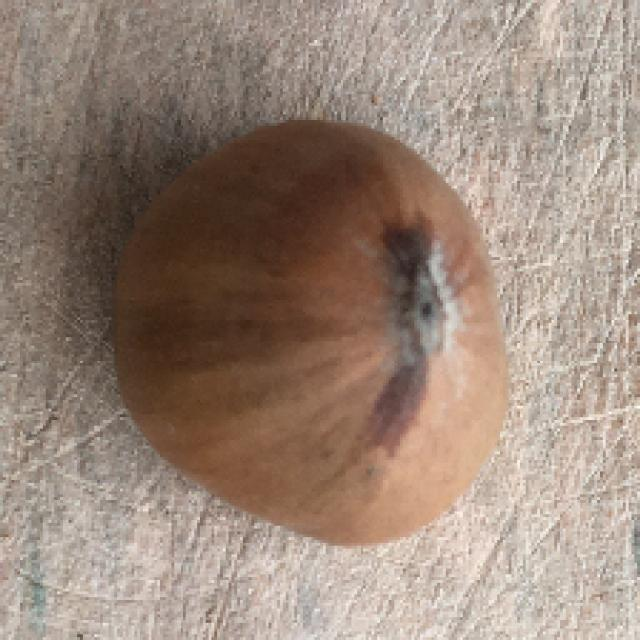qualityHazelnut: (114, 112, 503, 552)
